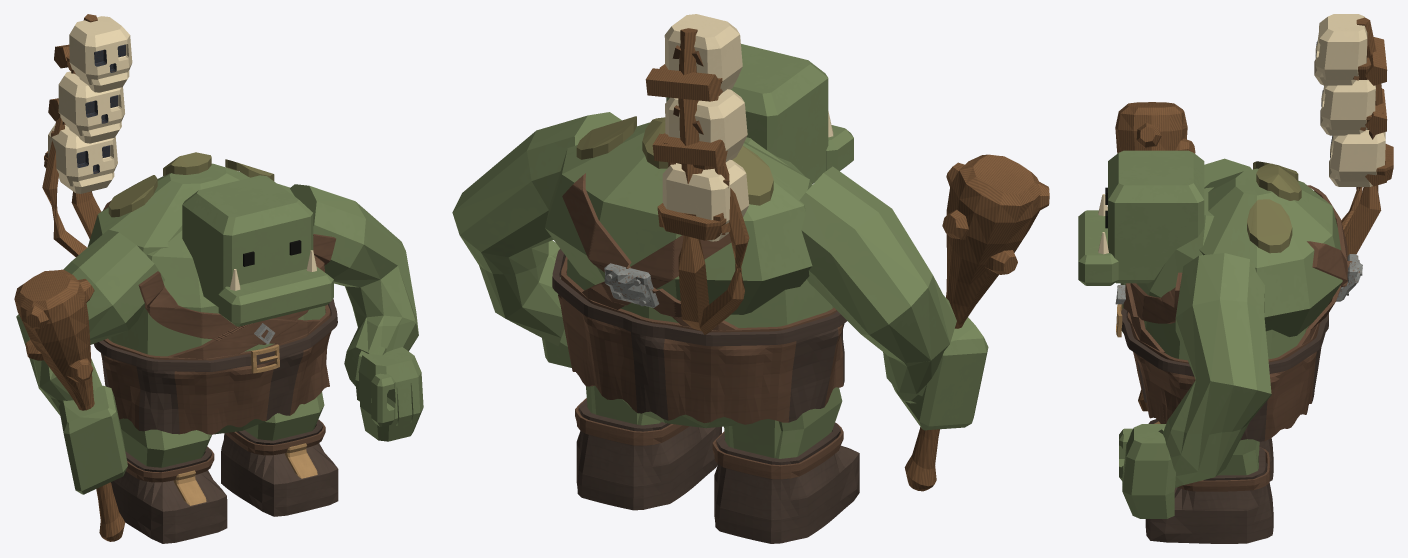
The model's file is host_17.glb.
3 renders of one model, left to right at view 1: azimuth 30°, elevation 25°; view 2: azimuth 150°, elevation 25°; view 3: azimuth 270°, elevation 25°, orthographic. The views are drawn at different scales.
Visible parts, largest first — view 1: Body — continuous source torso, four joints and planted legs, Head — complete continuous skull and neck, Clothing — broad source ragged leather skirt, Weapon — source branch actual wood handle, Boot — source fitted broad leather -1, Boot — source fitted broad leather 1, Pending source front — broad exposed crossed shoulder leathe (×2), Hand — LEFT connected source fist and wrist, Hand — RIGHT source compact planar grasp, Source totem — actual ivory skull trophy 2, Source totem — actual ivory skull trophy 1, Source totem — actual ivory skull trophy 0 (+8 smaller); view 2: Body — continuous source torso, four joints and planted legs, Clothing — broad source ragged leather skirt, Weapon — source branch actual wood handle, Source totem — actual continuous irregular rear timber spine, Boot — source fitted broad leather 1, Head — complete continuous skull and neck, Boot — source fitted broad leather -1, Hand — RIGHT source compact planar grasp, Clothing — fitted thin leather waist belt, Source totem — actual ivory skull trophy 0, Source totem — actual ivory skull trophy 2, Source back harness — shoulder to opposite hip 1 (+8 smaller); view 3: Body — continuous source torso, four joints and planted legs, Head — complete continuous skull and neck, Boot — source fitted broad leather -1, Clothing — broad source ragged leather skirt, Hand — LEFT connected source fist and wrist, Source totem — actual continuous irregular rear timber spine, Weapon — source branch actual wood handle, Source totem — actual ivory skull trophy 2, Source totem — actual ivory skull trophy 0, Source totem — actual ivory skull trophy 1, Pending source front — broad exposed crossed shoulder leathe (×2), Clothing — fitted thin leather waist belt (+6 smaller).
Boxes of the visible parts, x1,y1,x2,y2 form: Body — continuous source torso, four joints and planted legs: (16, 163, 418, 467); Head — complete continuous skull and neck: (182, 175, 333, 326); Clothing — broad source ragged leather skirt: (101, 304, 331, 434); Weapon — source branch actual wood handle: (14, 269, 125, 541); Boot — source fitted broad leather -1: (221, 420, 338, 516); Boot — source fitted broad leather 1: (111, 447, 227, 543); Pending source front — broad exposed crossed shoulder leathe (×2): (138, 234, 335, 359); Hand — LEFT connected source fist and wrist: (355, 346, 423, 441); Hand — RIGHT source compact planar grasp: (59, 385, 127, 494); Source totem — actual ivory skull trophy 2: (69, 16, 132, 92); Source totem — actual ivory skull trophy 1: (58, 71, 124, 143); Source totem — actual ivory skull trophy 0: (48, 124, 117, 193); Body — continuous source torso, four joints and planted legs: (452, 112, 956, 458); Clothing — broad source ragged leather skirt: (558, 256, 844, 424); Weapon — source branch actual wood handle: (904, 154, 1049, 491); Source totem — actual continuous irregular rear timber spine: (645, 28, 749, 334); Boot — source fitted broad leather 1: (714, 422, 859, 543); Head — complete continuous skull and neck: (666, 44, 853, 183); Boot — source fitted broad leather -1: (576, 399, 721, 510); Hand — RIGHT source compact planar grasp: (892, 317, 988, 430); Clothing — fitted thin leather waist belt: (552, 249, 846, 346); Source totem — actual ivory skull trophy 0: (662, 160, 749, 241); Source totem — actual ivory skull trophy 2: (664, 14, 742, 92); Source back harness — shoulder to opposite hip 1: (562, 173, 737, 330); Body — continuous source torso, four joints and planted legs: (1136, 158, 1342, 485); Head — complete continuous skull and neck: (1078, 150, 1204, 285); Boot — source fitted broad leather -1: (1145, 447, 1273, 543); Clothing — broad source ragged leather skirt: (1127, 312, 1321, 441); Hand — LEFT connected source fist and wrist: (1119, 424, 1183, 518); Source totem — actual continuous irregular rear timber spine: (1341, 17, 1393, 255); Weapon — source branch actual wood handle: (1115, 102, 1195, 411); Source totem — actual ivory skull trophy 2: (1314, 14, 1367, 85); Source totem — actual ivory skull trophy 0: (1329, 130, 1385, 186); Source totem — actual ivory skull trophy 1: (1320, 79, 1375, 135); Pending source front — broad exposed crossed shoulder leathe (×2): (1123, 272, 1182, 352); Clothing — fitted thin leather waist belt: (1121, 308, 1328, 376).
Bounding box in the file's own units: 4.35 × 4.36 × 2.75.
14 materials, 12 textured.
